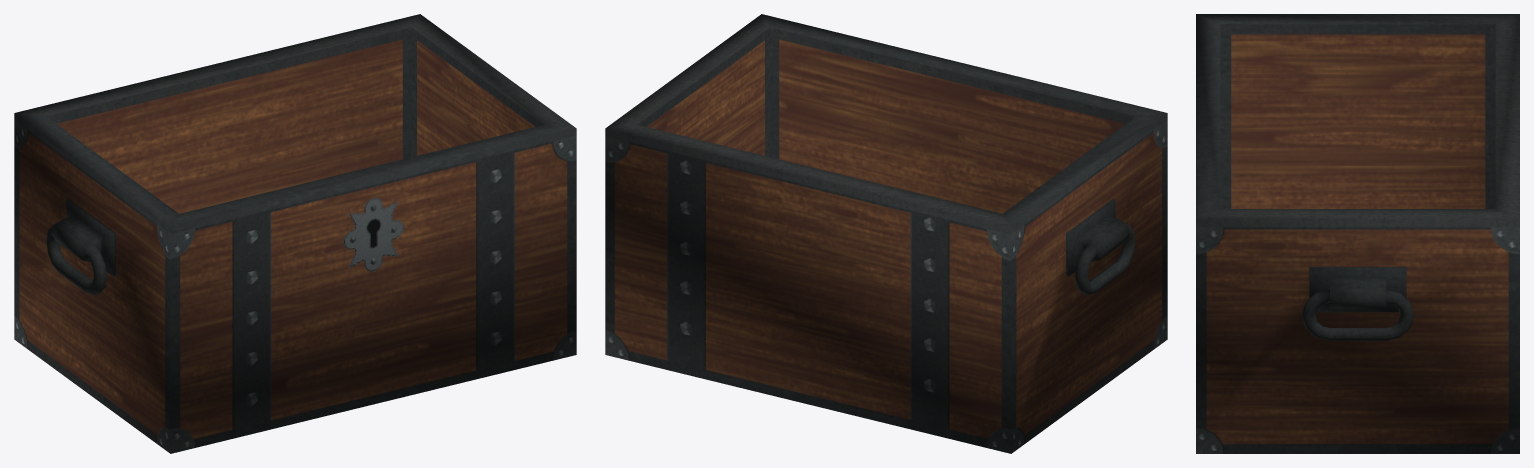
Rendered from chest lowerpart.obj.
The picture shows the model from 3 angles, left to right: view 1: azimuth 30°, elevation 25°; view 2: azimuth 150°, elevation 25°; view 3: azimuth 270°, elevation 25°; orthographic projection. The views are drawn at different scales.
Parts seen in each view (by area): view 1: Default; view 2: Default; view 3: Default.
Boxes of the visible parts, box(x1,y1,x2,y2) form: Default: box(14, 14, 576, 453); Default: box(605, 14, 1167, 453); Default: box(1196, 14, 1519, 453).
Size of the model in its own units: 3.4 by 1.6 by 2.
1 material, 1 textured.
